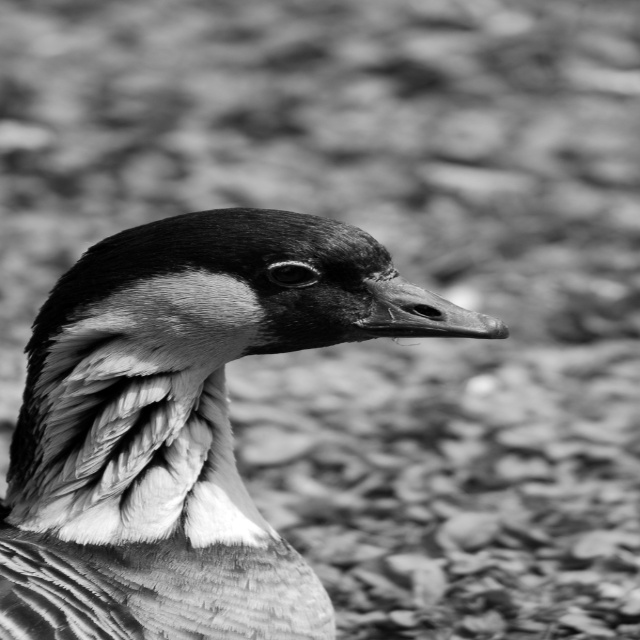Goose: (0, 207, 503, 640)
